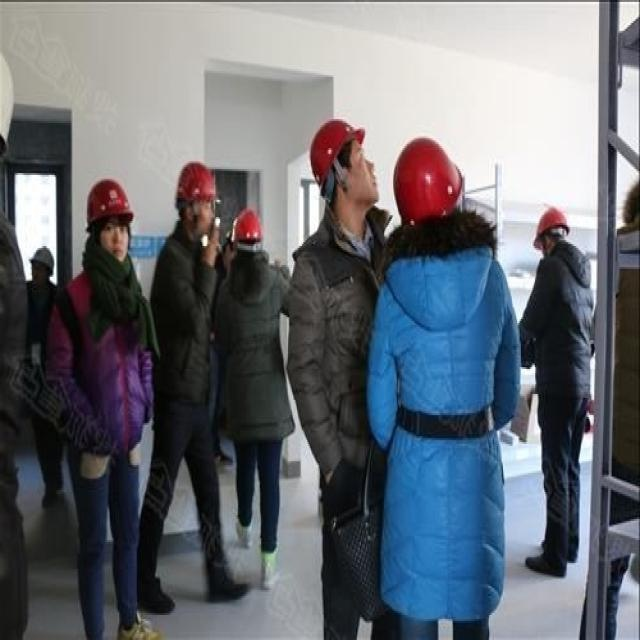Con_Casco: (312, 118, 378, 217)
